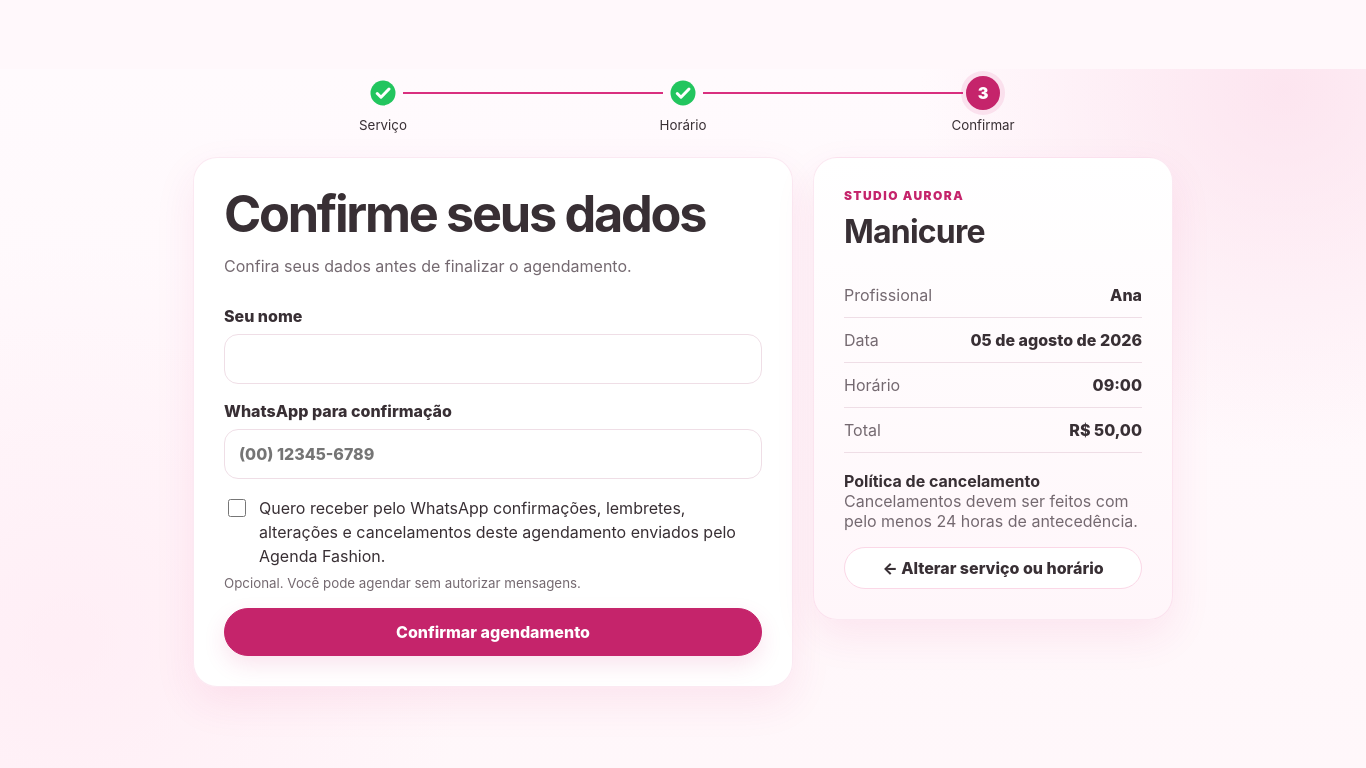
confirmação do agendamento › mostra o exemplo e aplica a máscara do WhatsApp durante a digitação
This screenshot has width=1366, height=768.
Type "62999998888" into the field labelled "WhatsApp para confirmação" at (493, 454), box [224,429,762,479]
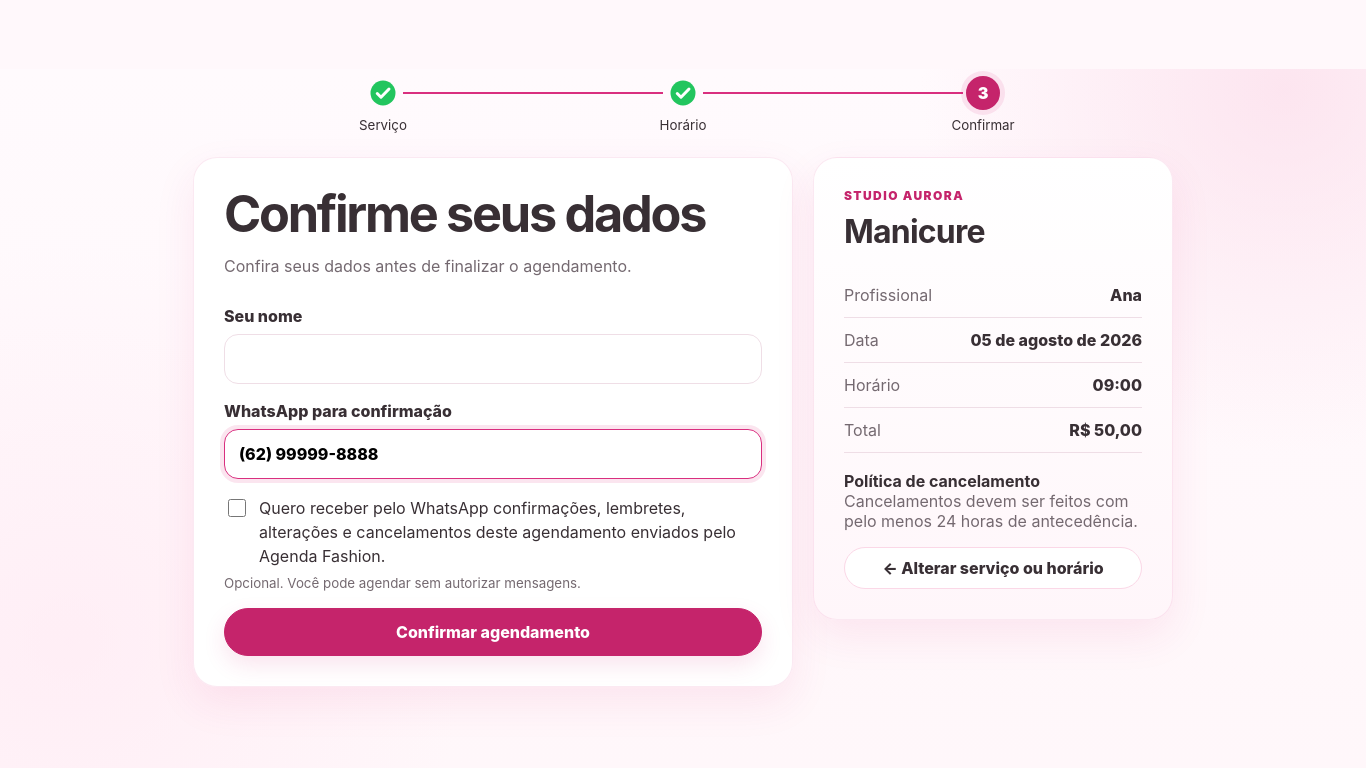
Expected: the field labelled "WhatsApp para confirmação" holds "(62) 99999-8888", [224,429,762,479]
